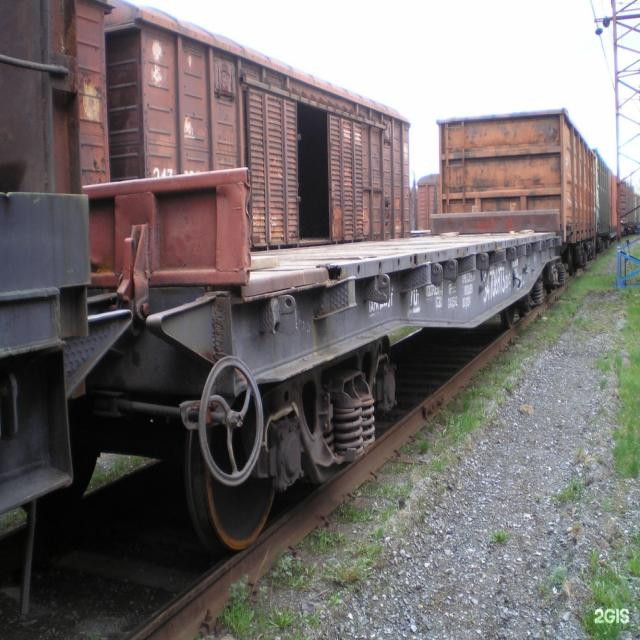boxcar: (109, 0, 417, 250)
flatcar: (88, 160, 566, 566)
gondola: (430, 103, 597, 269)
